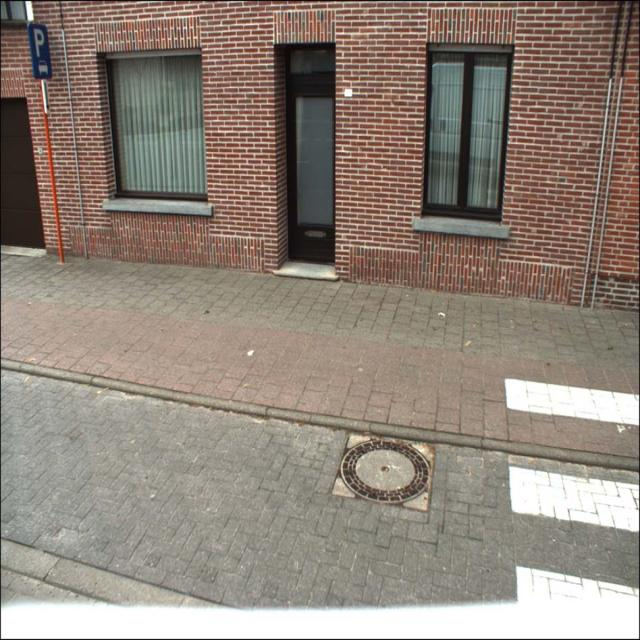park: (29, 24, 51, 80)
